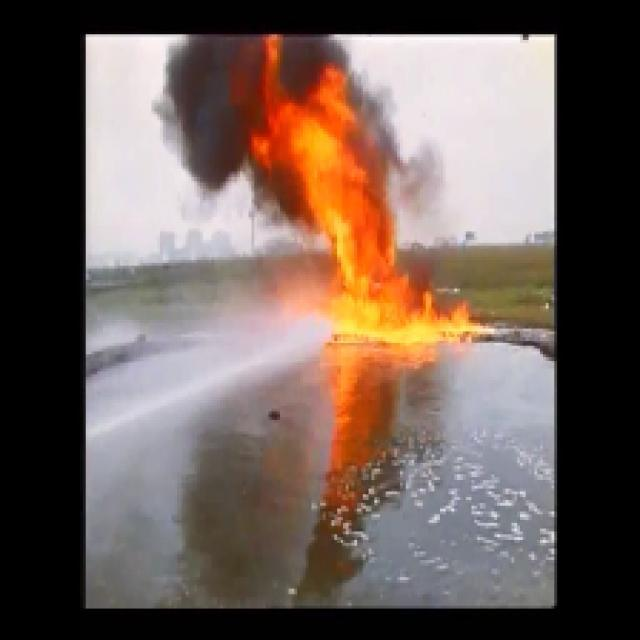Fire: (274, 126, 432, 330)
Smoke: (178, 41, 244, 176)
